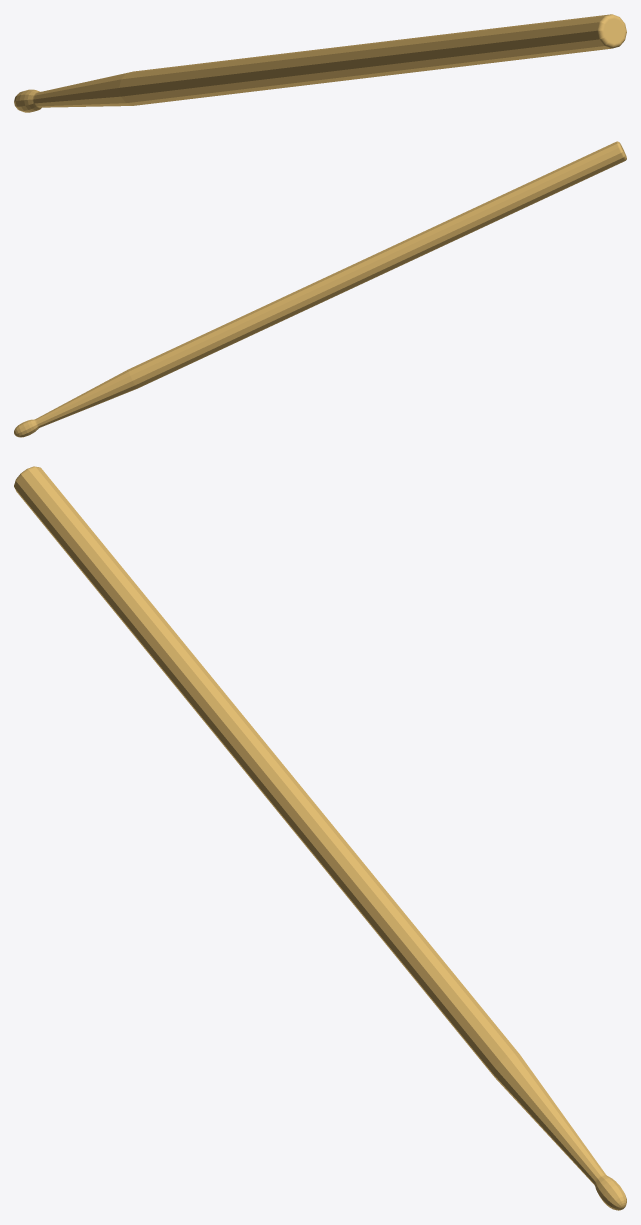
The model's file is stick.fbx.
3 renders of one model, top to bottom at view 1: azimuth 90°, elevation 25°; view 2: azimuth 150°, elevation 25°; view 3: azimuth 270°, elevation 25°, orthographic. The views are drawn at different scales.
Parts seen in each view (by area): view 1: Drum_Stick.1; view 2: Drum_Stick.1; view 3: Drum_Stick.1.
Boxes of the visible parts, x1,y1,x2,y2 form: Drum_Stick.1: [14, 14, 626, 112]; Drum_Stick.1: [14, 141, 626, 437]; Drum_Stick.1: [14, 466, 626, 1210].
Size of the model in its own units: 11038 by 6434 by 8543.
